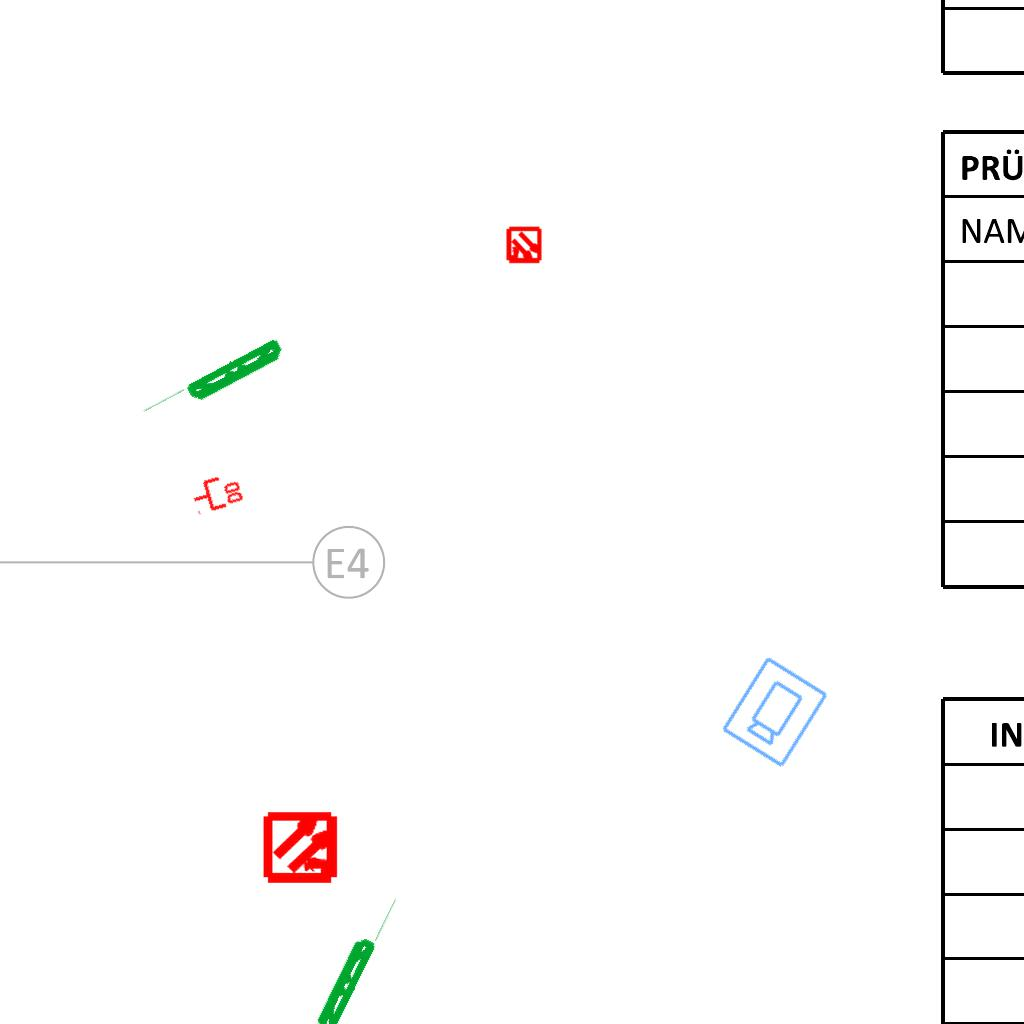Datenanschluss_zweifach: (187, 469, 247, 516)
KFO_Kamera_mit_Festobjektiv: (717, 652, 832, 771)
OT_Multisensormelder_(Kombination_RMO_WMD): (246, 791, 359, 904), (496, 218, 552, 274)
Sicherheitsleuchte_Wandeinbau: (137, 335, 290, 432), (309, 885, 402, 1024)
